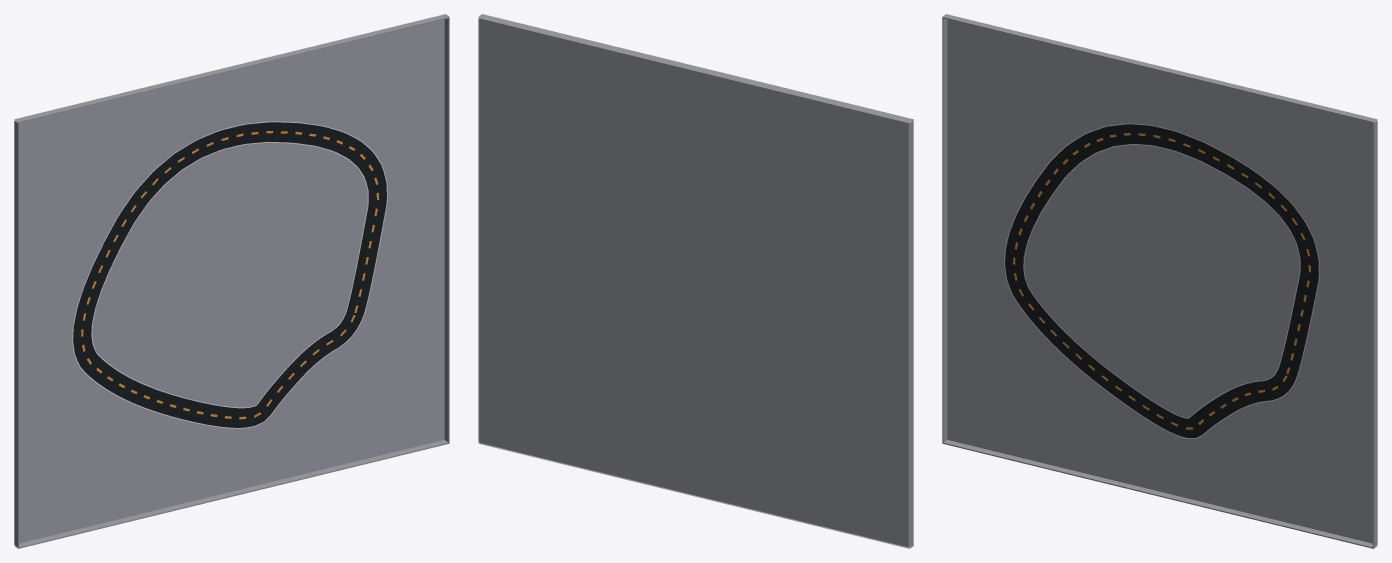
File: track.obj
3 views of the same model, side by side, from view 1: azimuth 30°, elevation 25°; view 2: azimuth 150°, elevation 25°; view 3: azimuth 330°, elevation 25° (orthographic).
Bounding box in the file's own units: 18.68 × 17.66 × 0.3.
